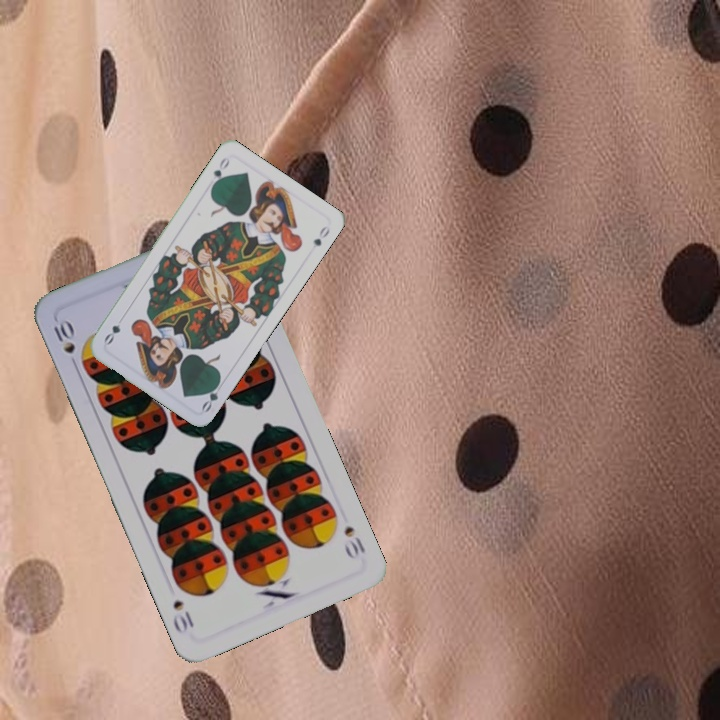GO: (198, 376, 223, 415), (207, 153, 232, 191)
S10: (49, 314, 78, 356), (340, 521, 368, 561)
